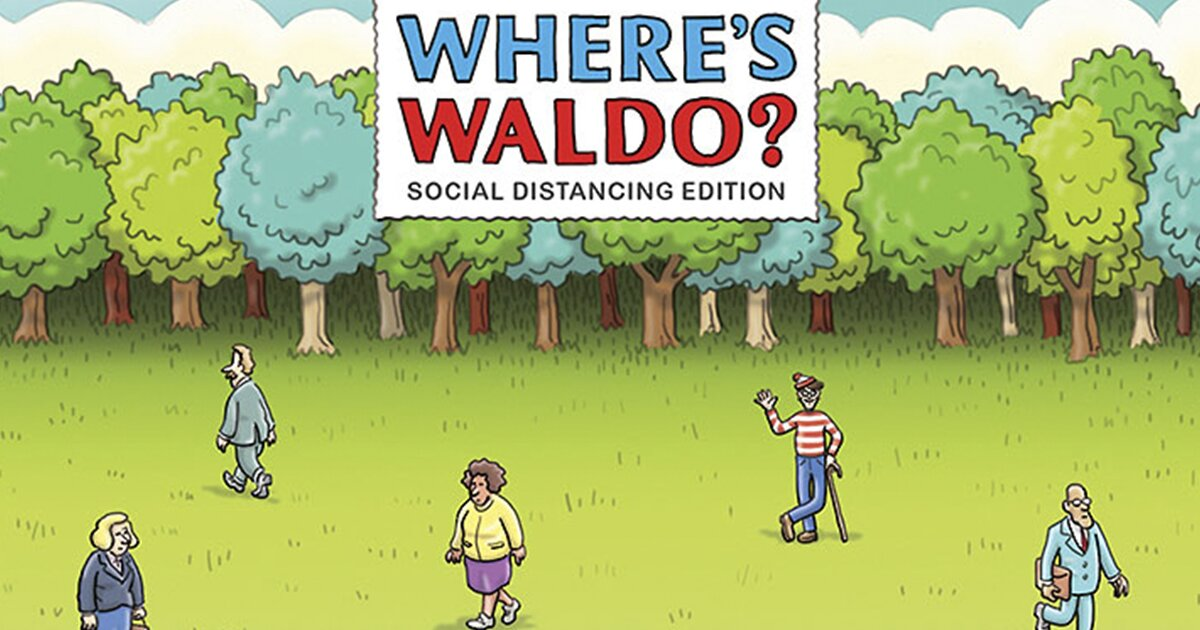Waldo: (772, 365, 834, 437)
